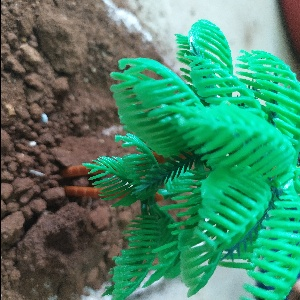plant: (62, 6, 300, 297)
